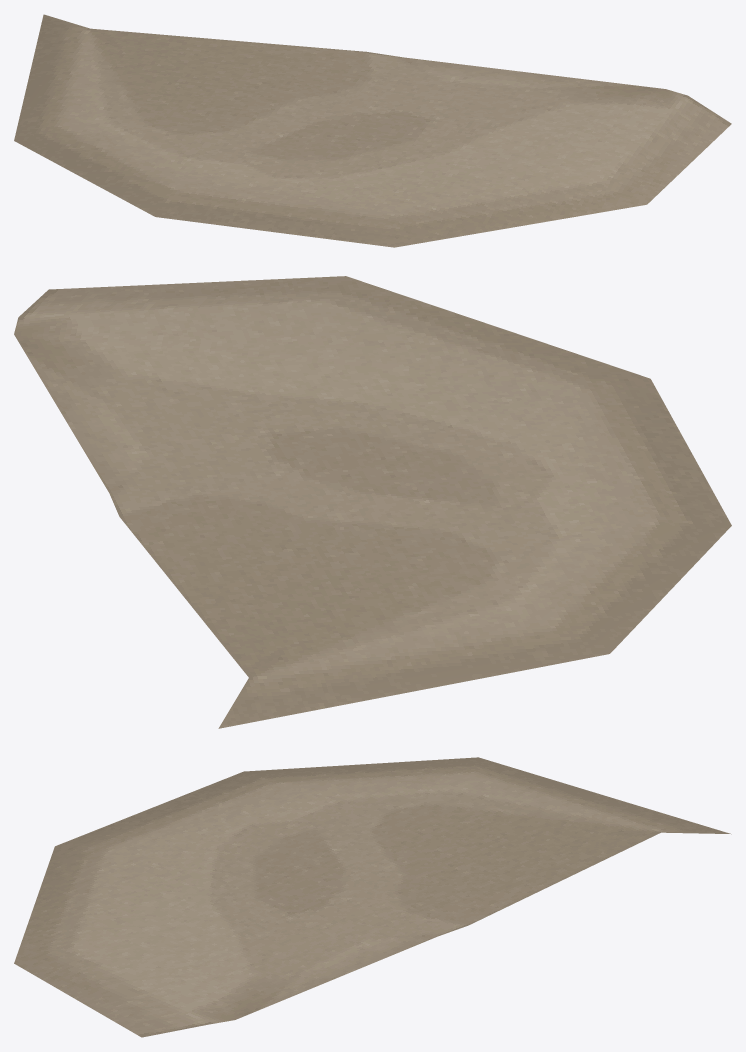
Rendered from kd_stage_1366d7_0_2_bounded.glb.
The picture shows the model from 3 angles, top to bottom: view 1: azimuth 30°, elevation 25°; view 2: azimuth 150°, elevation 25°; view 3: azimuth 270°, elevation 25°; orthographic projection. The views are drawn at different scales.
Visible parts, largest first — view 1: kd_stage_1366d7_0_2_bounded; view 2: kd_stage_1366d7_0_2_bounded; view 3: kd_stage_1366d7_0_2_bounded.
Part boxes in pixels (x1,y1,x2,y2): kd_stage_1366d7_0_2_bounded: (14, 14, 731, 247); kd_stage_1366d7_0_2_bounded: (14, 276, 731, 728); kd_stage_1366d7_0_2_bounded: (14, 757, 731, 1037).
Size of the model in its own units: 39.34 by 0.5191 by 42.51.
1 material, 1 textured.
